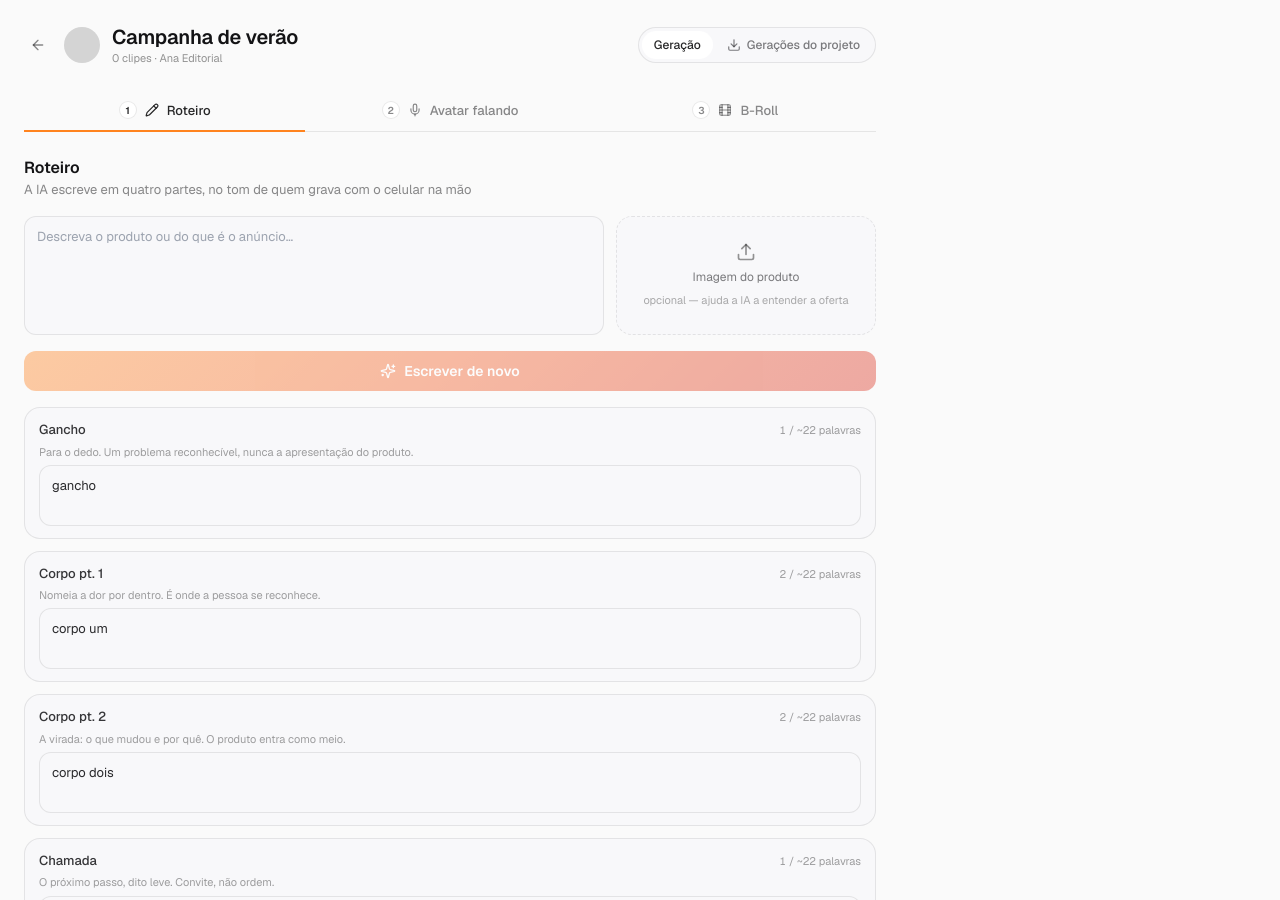
Test: UgcProjectPage › gerar um segmento cria a linha e completa a MESMA linha
This screenshot has width=1280, height=900.
Later steps or results of the test are not shown.
What coordinates should you click on to do the following:
click the button "2 Avatar falando"
I would click on:
 (450, 111)
Its box is [309,90,591,132].
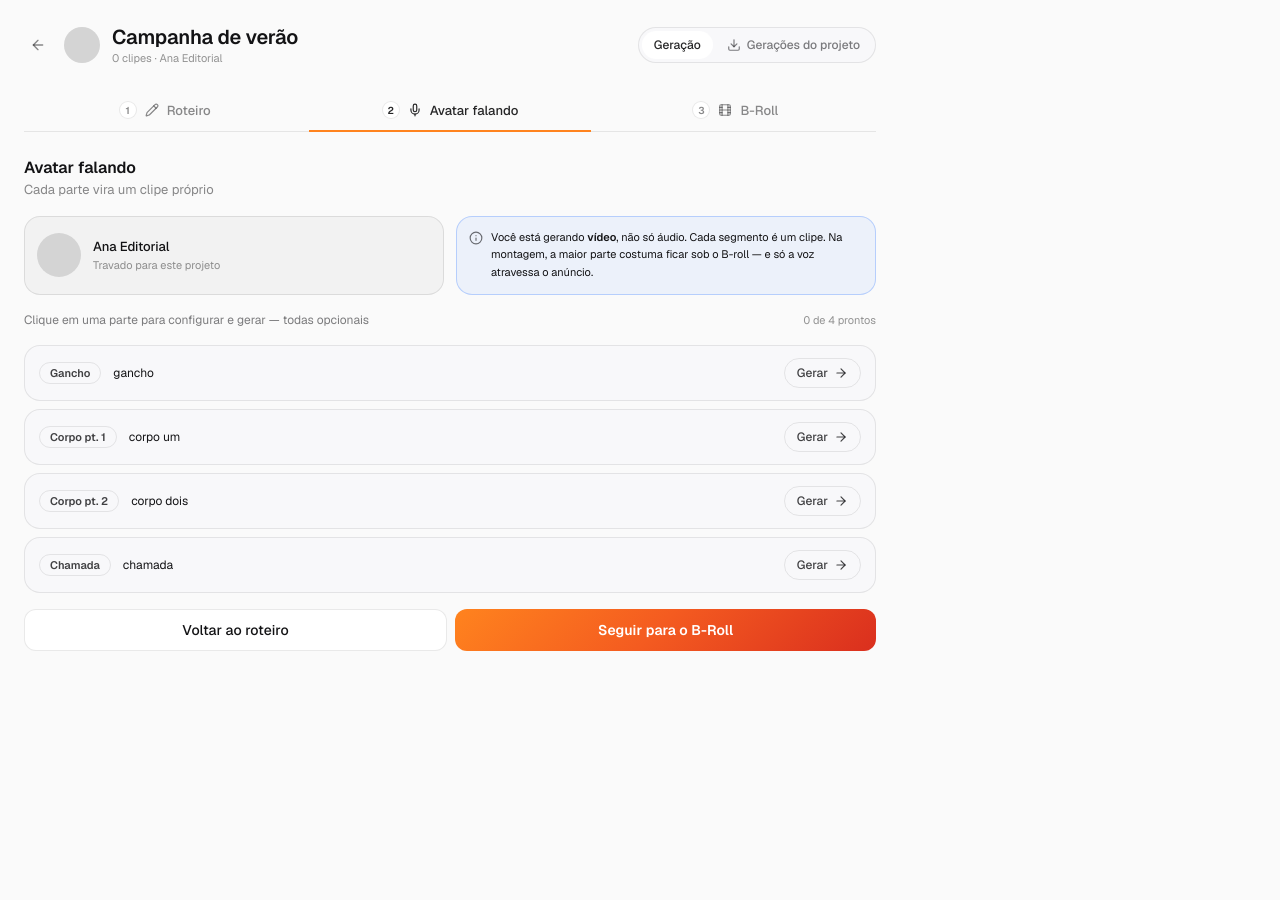
Expected: the element "Avatar falando" is shown, [24,156,876,651]
Note: A fala do roteiro chega pronta no diálogo do segmento.
What coordinates should you click on to do the following:
click the 1st button "Gerar"
I would click on:
 (822, 373)
Its box is [784,358,861,388].
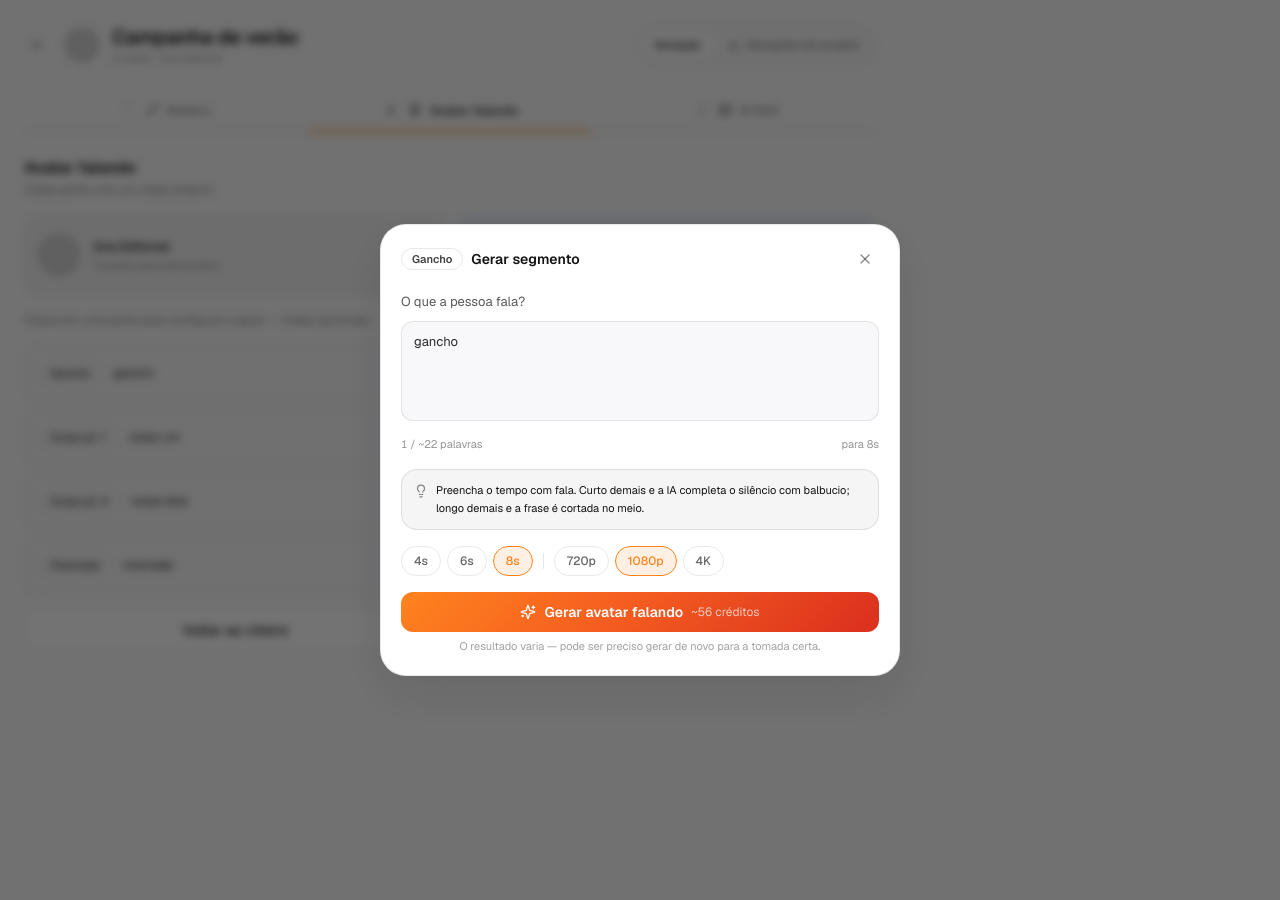
Expected: the dialog is shown
Expected: the text box showing "gancho" is shown, [401,321,879,421]
